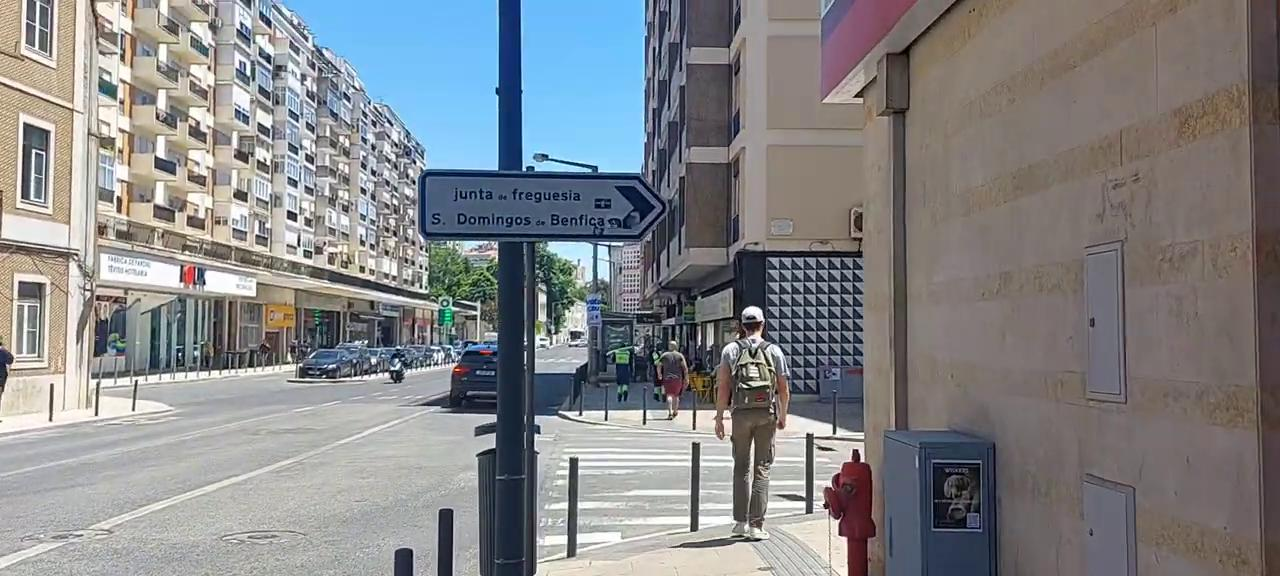direcao de via de acesso: (419, 169, 672, 248)
